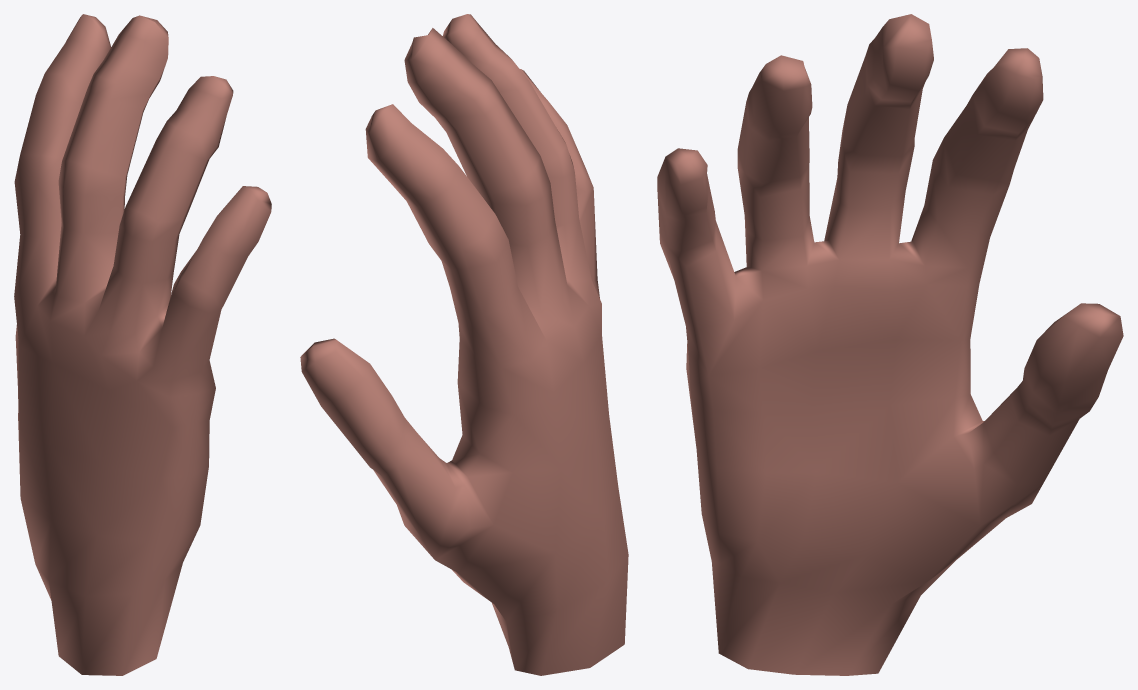
Rendered from curious_girl_hand_r.glb.
3 views of the same model, side by side, from view 1: azimuth 30°, elevation 25°; view 2: azimuth 150°, elevation 25°; view 3: azimuth 270°, elevation 25° (orthographic). The views are drawn at different scales.
Parts seen in each view (by area): view 1: Wolf3D_Body; view 2: Wolf3D_Body; view 3: Wolf3D_Body.
Part boxes in pixels (x1=…): Wolf3D_Body: x1=14, y1=14, x2=271, y2=675; Wolf3D_Body: x1=300, y1=14, x2=628, y2=675; Wolf3D_Body: x1=657, y1=14, x2=1123, y2=675.
Size of the model in its own units: 0.0838 by 0.277 by 0.1674.
1 material, 1 textured.
